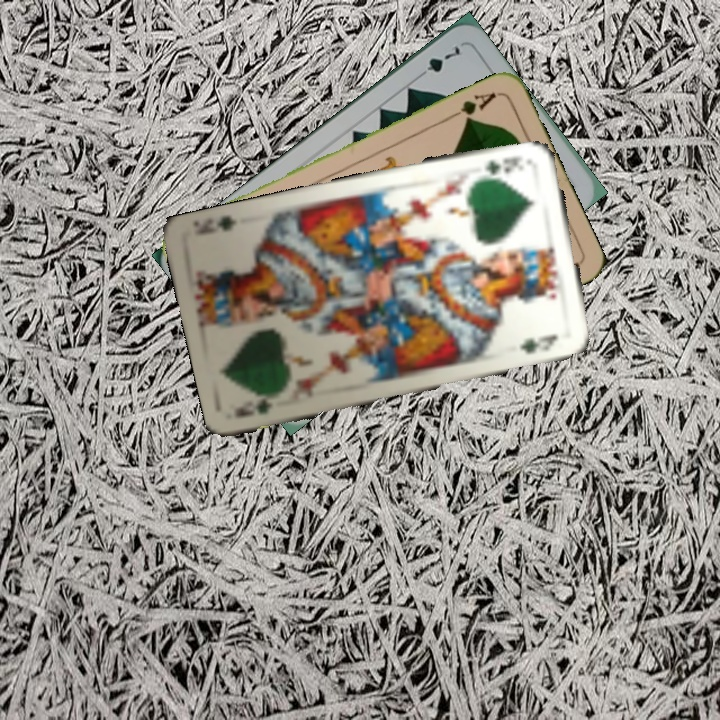G7: (412, 41, 463, 82)
GA: (445, 88, 499, 125)
GK: (481, 152, 525, 177), (251, 389, 285, 417)
